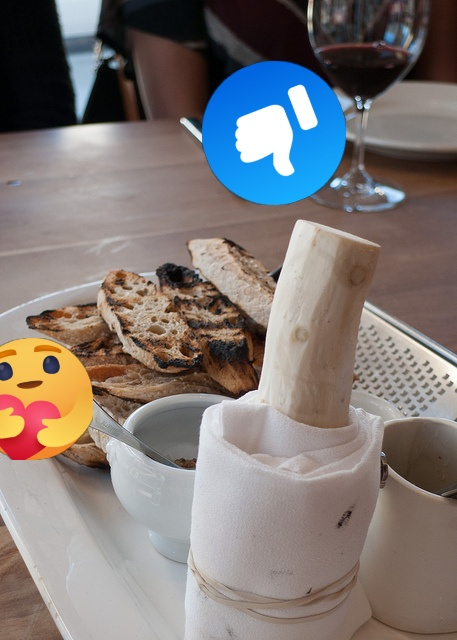care: (0, 338, 93, 460)
like: (202, 61, 346, 205)
